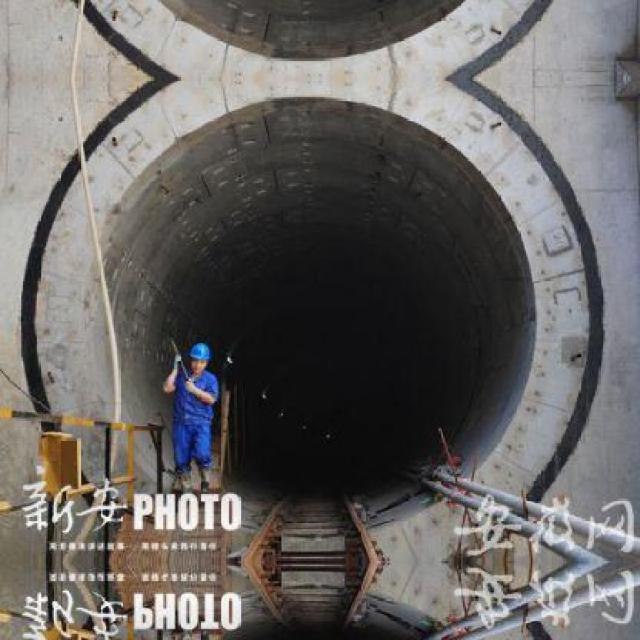helmet: (187, 341, 210, 376)
